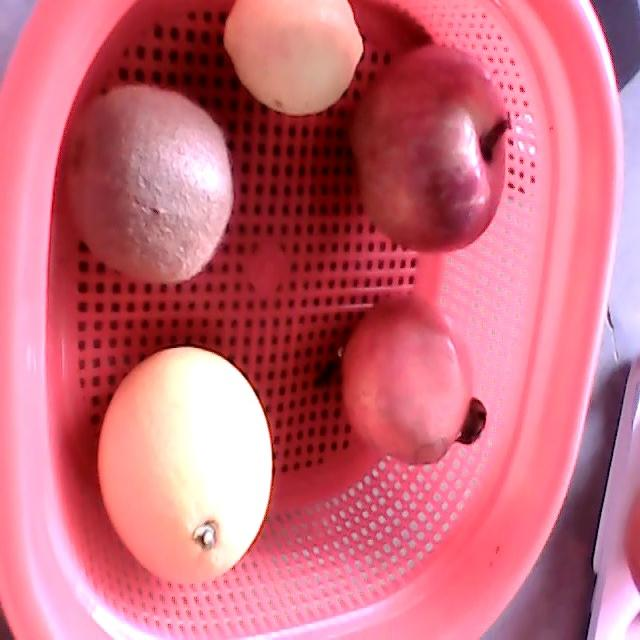apple: (347, 42, 512, 256)
kiwi: (61, 82, 235, 284)
lemon: (223, 0, 364, 116)
orange: (97, 347, 273, 586)
pomegranate: (338, 292, 488, 468)
